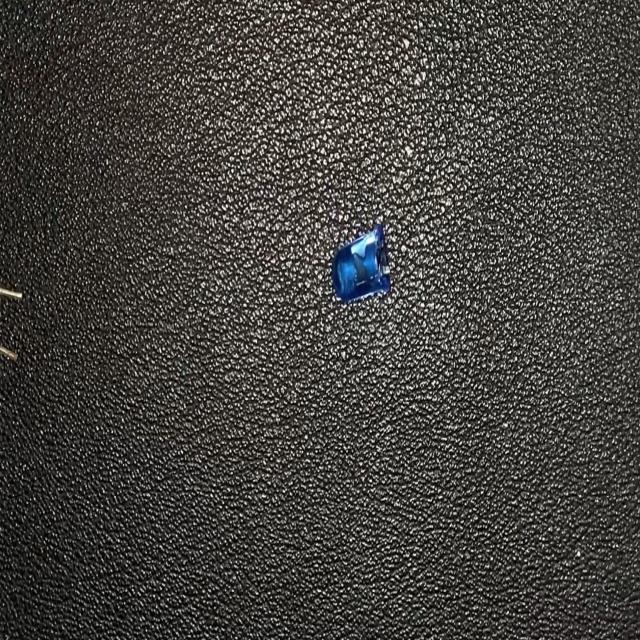missing-leg: (330, 218, 392, 303)
